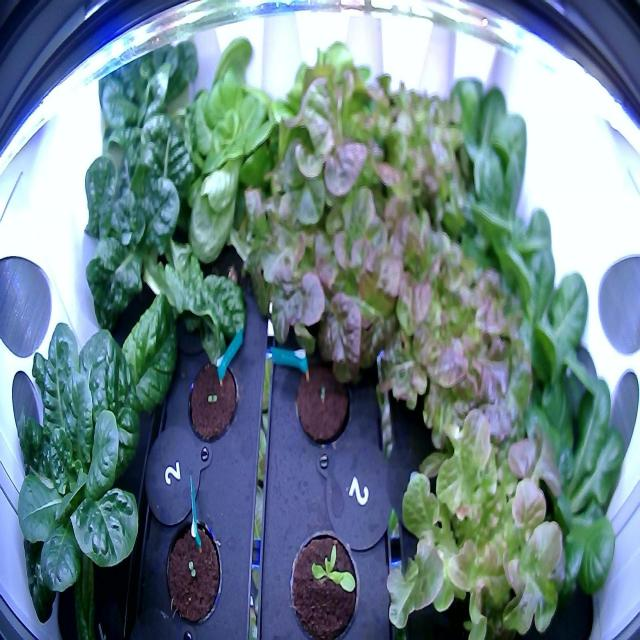Ready: (164, 28, 306, 256)
germination: (157, 510, 226, 634), (287, 350, 358, 451), (182, 354, 242, 450)
young: (9, 316, 168, 627), (500, 362, 632, 626), (78, 27, 206, 232), (488, 239, 610, 442), (75, 138, 189, 327), (420, 72, 538, 232), (450, 144, 559, 302), (284, 522, 365, 640)
